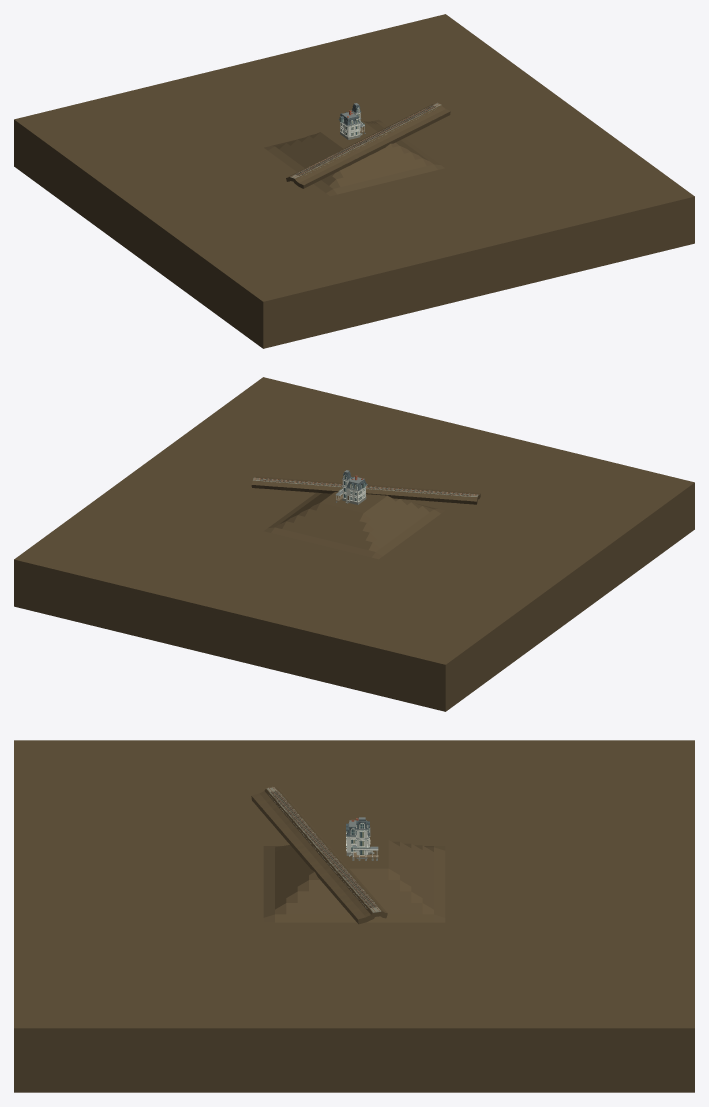
Rendered from railroad-ours-gpt-6-1-sol.glb.
The picture shows the model from 3 angles, top to bottom: view 1: azimuth 30°, elevation 25°; view 2: azimuth 150°, elevation 25°; view 3: azimuth 270°, elevation 25°; orthographic projection. The views are drawn at different scales.
Visible parts, largest first — view 1: Ground terrain, Continuous railway earth embankment, Oak railway sleepers 0.64m spacing; view 2: Ground terrain, Continuous railway earth embankment, Ballast compacted bed; view 3: Ground terrain, Continuous railway earth embankment, Oak railway sleepers 0.64m spacing, Ballast compacted bed.
Boxes of the visible parts, x1=… form: Ground terrain: x1=14, y1=14, x2=694, y2=348; Continuous railway earth embankment: x1=286, y1=103, x2=450, y2=188; Oak railway sleepers 0.64m spacing: x1=295, y1=105, x2=435, y2=175; Ground terrain: x1=14, y1=377, x2=694, y2=711; Continuous railway earth embankment: x1=251, y1=476, x2=480, y2=504; Ballast compacted bed: x1=253, y1=478, x2=478, y2=496; Ground terrain: x1=14, y1=740, x2=694, y2=1092; Continuous railway earth embankment: x1=251, y1=787, x2=387, y2=924; Oak railway sleepers 0.64m spacing: x1=270, y1=791, x2=376, y2=907; Ballast compacted bed: x1=266, y1=787, x2=381, y2=912.
Bounding box in the file's own units: 240 × 51.89 × 240.
